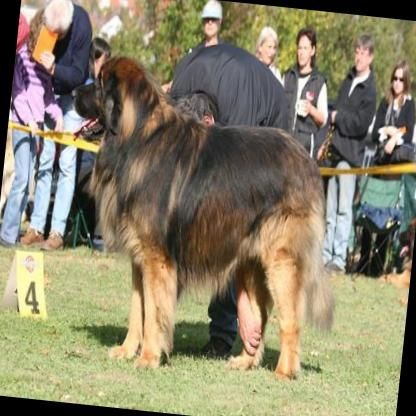Leonberg: (44, 44, 360, 392)
